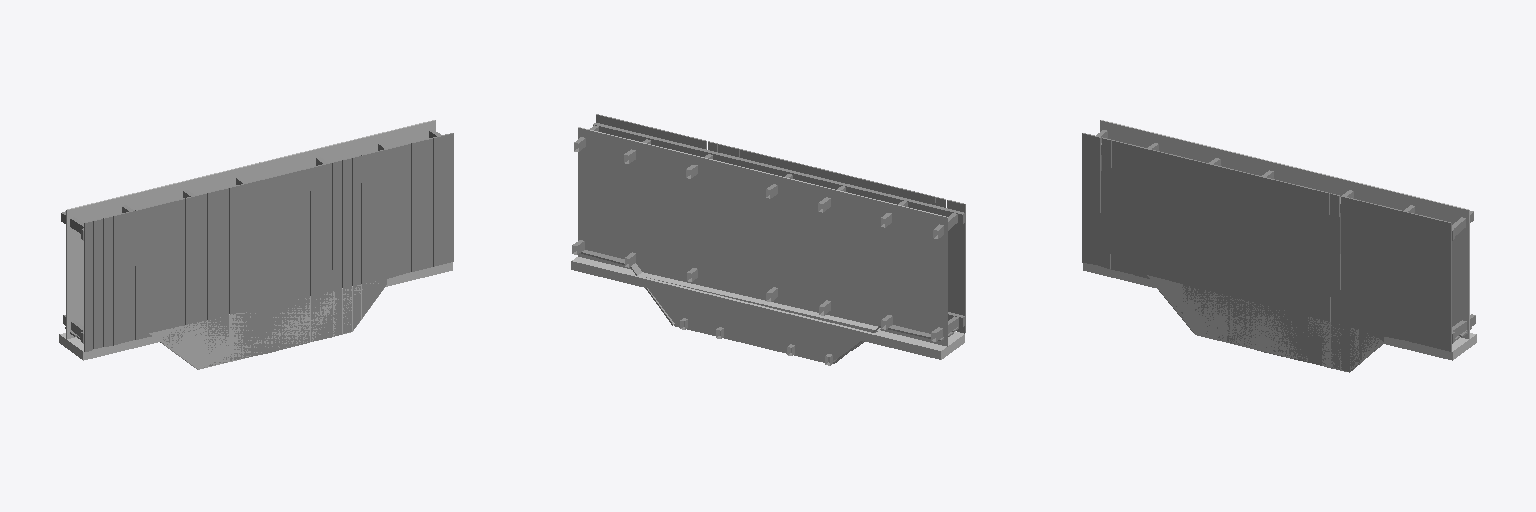
The model's file is ext_oldwood_platform_4x12m_a.obj.
The picture shows the model from 3 angles: view 1: azimuth 30°, elevation 25°; view 2: azimuth 150°, elevation 25°; view 3: azimuth 330°, elevation 25°; orthographic projection.
Visible parts, largest first — view 1: g_oldwood, c_box_001, c_convex_001, c_box_002; view 2: c_box_001, g_oldwood, c_convex_001, c_box_002; view 3: g_oldwood, c_box_001, c_convex_001, c_box_002.
Part boxes in pixels (x1,y1,x2,y2): g_oldwood: (61, 130, 453, 369); c_box_001: (66, 120, 435, 338); c_convex_001: (149, 278, 391, 369); c_box_002: (59, 262, 452, 360); c_box_001: (578, 127, 947, 346); g_oldwood: (572, 114, 965, 365); c_convex_001: (638, 272, 880, 362); c_box_002: (571, 257, 964, 359); g_oldwood: (1082, 130, 1475, 371); c_box_001: (1100, 120, 1469, 338); c_convex_001: (1147, 275, 1388, 372); c_box_002: (1083, 263, 1476, 360).
Size of the model in its own units: 1200 by 542 by 149.